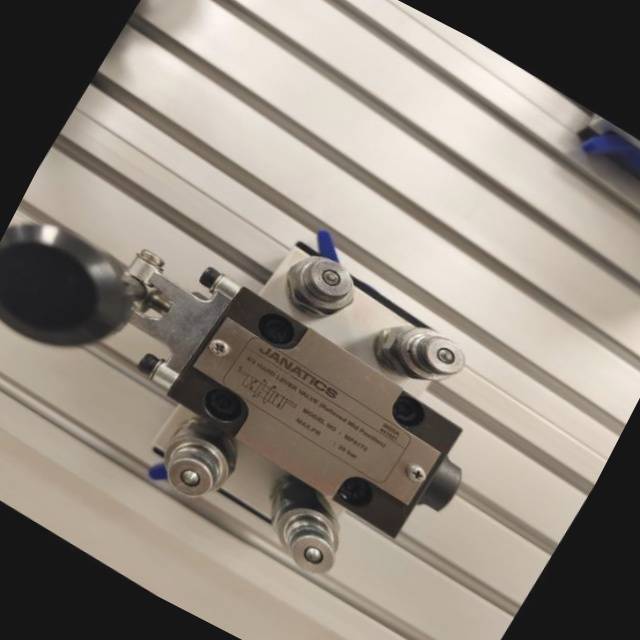4by3 hand lever valve: (0, 75, 566, 640)
